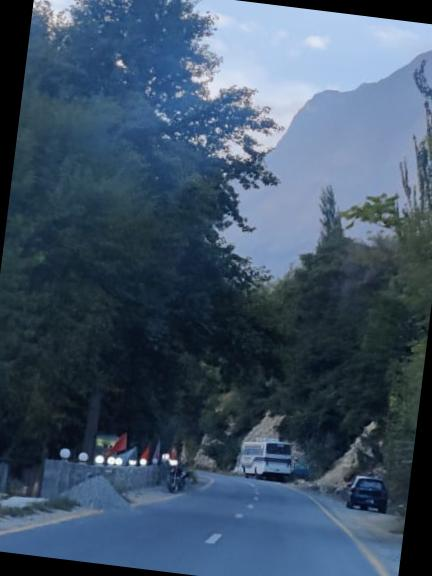right_turn: (155, 444, 330, 524)
sharp_turn: (0, 462, 405, 576)
